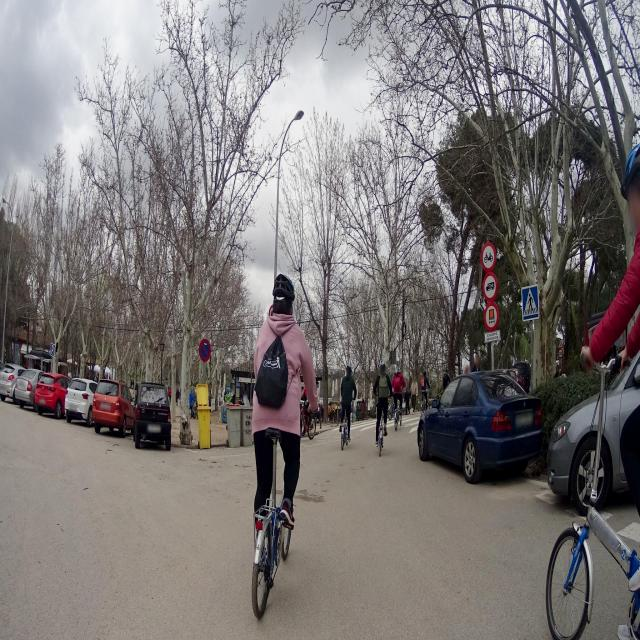bike: (250, 406, 304, 625)
car: (546, 290, 640, 512), (417, 369, 544, 483), (133, 379, 172, 450), (92, 378, 136, 436), (34, 373, 72, 418), (65, 378, 96, 423), (15, 368, 44, 408), (0, 364, 25, 400), (510, 359, 532, 394)
